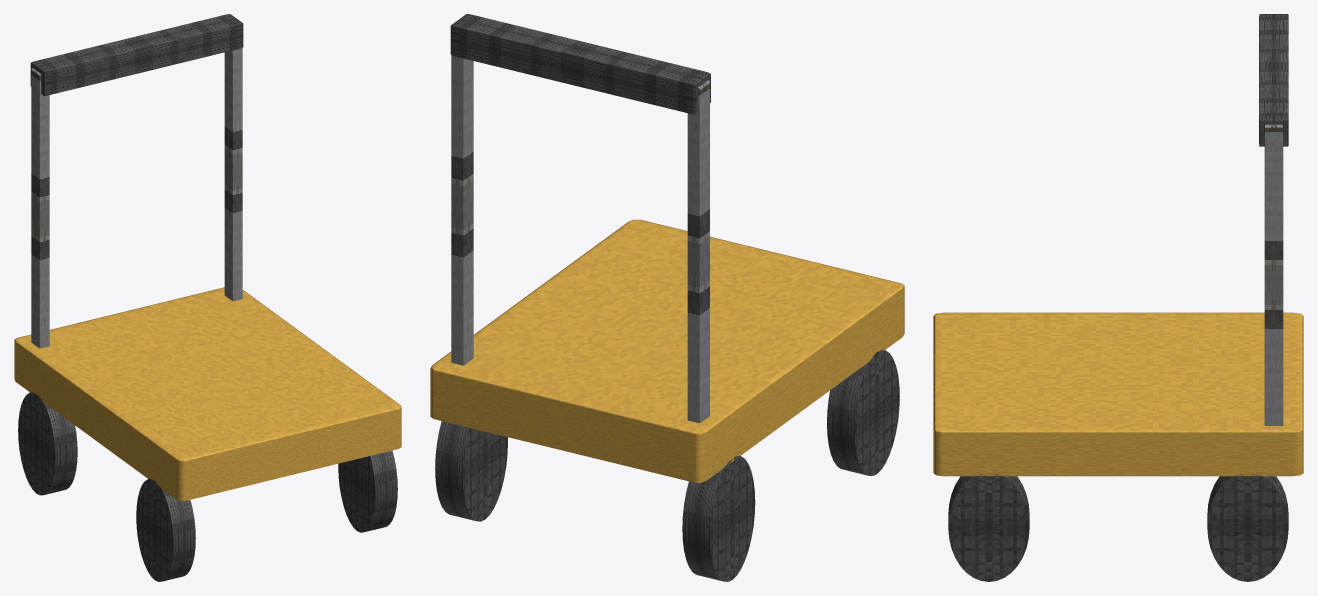
File: wringer.glb
The picture shows the model from 3 angles, left to right: view 1: azimuth 30°, elevation 25°; view 2: azimuth 150°, elevation 25°; view 3: azimuth 270°, elevation 25°; orthographic projection. The views are drawn at different scales.
Visible parts, largest first — view 1: deck, caster (×3), upright (×2), handle; view 2: deck, caster (×3), upright (×2), handle; view 3: deck, caster (×2), upright, handle.
Part boxes in pixels (box(x1,y1,x2,y2)): deck: box(14, 287, 401, 500); caster (×3): box(18, 392, 397, 581); upright (×2): box(31, 47, 242, 348); handle: box(30, 14, 243, 95); deck: box(430, 219, 904, 482); caster (×3): box(435, 350, 899, 581); upright (×2): box(451, 55, 709, 423); handle: box(450, 14, 710, 114); deck: box(933, 312, 1303, 476); caster (×2): box(948, 474, 1288, 581); upright: box(1264, 124, 1283, 425); handle: box(1259, 14, 1288, 146).
Size of the model in its own units: 0.43 by 0.76 by 0.56.
3 materials, 3 textured.
